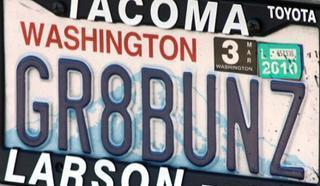placa de veiculo: (7, 1, 314, 186)
